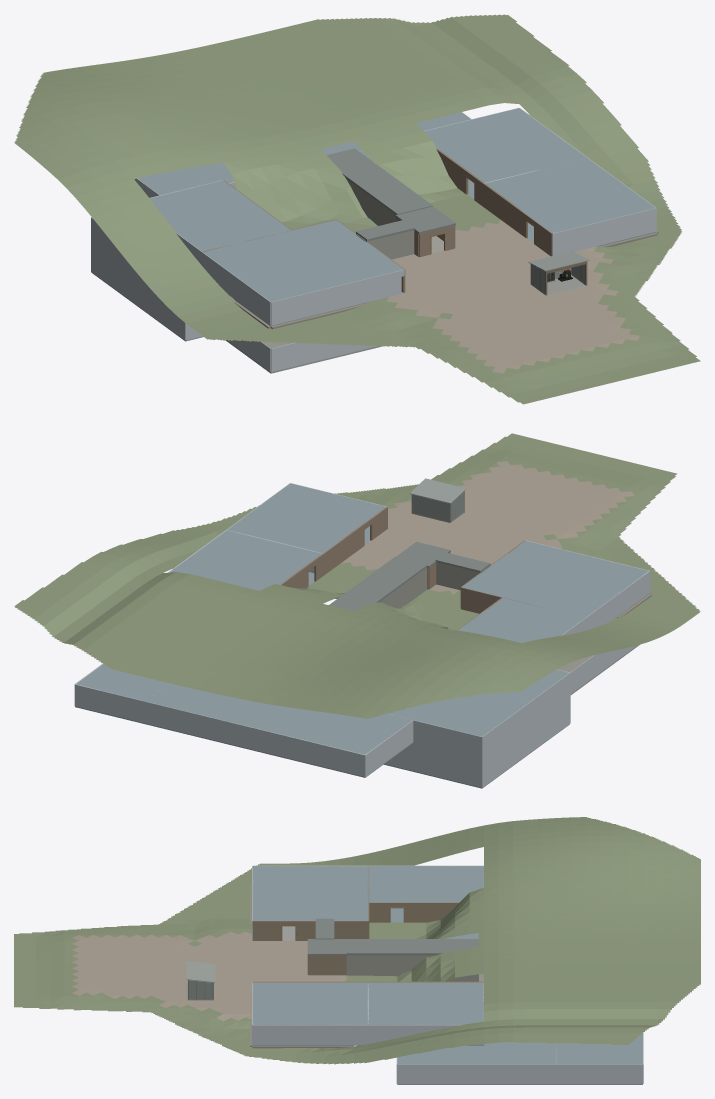
The model's file is mine-service-yard.glb.
The picture shows the model from 3 angles, top to bottom: view 1: azimuth 30°, elevation 25°; view 2: azimuth 150°, elevation 25°; view 3: azimuth 270°, elevation 25°; orthographic projection. The views are drawn at different scales.
Visible parts, largest first — view 1: WLD-05 saved ground, Ceiling cap shack, Ceiling cap assay, Ceiling cap wash, Ceiling cap stores, Flat route shell Wall shack S, Mine haul stair weather roof region0, Wall lower W, Wall assay S, Ceiling cap cross, Wall vent S, Wall shack W (+8 smaller); view 2: WLD-05 saved ground, Ceiling cap shack, Ceiling cap cross, Ceiling cap assay, Ceiling cap wash, Wall cross N, Ceiling cap ore-west, Ceiling cap stores, Wall lower W, Wall lower N, Mine haul stair weather roof region0, Wall ore-west W (+14 smaller); view 3: WLD-05 saved ground, Ceiling cap shack, Ceiling cap assay, Ceiling cap wash, Ceiling cap stores, Wall ore-east E, Ceiling cap ore-east, Wall assay E, Mine haul stair weather roof region0, Ceiling cap lift, Wall lift E, Mine haul east retaining wall region0 (+10 smaller).
Part boxes in pixels (left/top/right/bottom): WLD-05 saved ground: left=14, top=14, right=700, bottom=404; Ceiling cap shack: left=203, top=220, right=403, bottom=301; Ceiling cap assay: left=485, top=158, right=655, bottom=233; Ceiling cap wash: left=424, top=108, right=586, bottom=182; Ceiling cap stores: left=150, top=180, right=290, bottom=251; Flat route shell Wall shack S: left=271, top=269, right=404, bottom=325; Mine haul stair weather roof region0: left=327, top=148, right=432, bottom=214; Wall lower W: left=91, top=241, right=185, bottom=340; Wall assay S: left=552, top=208, right=656, bottom=255; Ceiling cap cross: left=137, top=142, right=362, bottom=195; Wall vent S: left=271, top=342, right=376, bottom=371; Wall shack W: left=202, top=252, right=270, bottom=325; WLD-05 saved ground: left=14, top=433, right=700, bottom=718; Ceiling cap shack: left=462, top=540, right=648, bottom=617; Ceiling cap cross: left=144, top=683, right=412, bottom=754; Ceiling cap assay: left=227, top=483, right=386, bottom=553; Ceiling cap wash: left=169, top=530, right=322, bottom=590; Wall cross N: left=144, top=701, right=365, bottom=776; Ceiling cap ore-west: left=388, top=669, right=569, bottom=736; Ceiling cap stores: left=458, top=597, right=585, bottom=643; Wall lower W: left=482, top=694, right=570, bottom=787; Wall lower N: left=385, top=742, right=482, bottom=787; Mine haul stair weather roof region0: left=329, top=557, right=427, bottom=610; Wall ore-west W: left=482, top=673, right=570, bottom=758; WLD-05 saved ground: left=14, top=817, right=700, bottom=1064; Ceiling cap shack: left=252, top=866, right=368, bottom=920; Ceiling cap assay: left=252, top=982, right=368, bottom=1024; Ceiling cap wash: left=368, top=982, right=483, bottom=1024; Ceiling cap stores: left=368, top=866, right=483, bottom=902; Wall ore-east E: left=397, top=1064, right=556, bottom=1084; Ceiling cap ore-east: left=397, top=1042, right=556, bottom=1064; Wall assay E: left=252, top=1024, right=368, bottom=1044; Mine haul stair weather roof region0: left=346, top=939, right=478, bottom=955; Ceiling cap lift: left=556, top=1033, right=642, bottom=1064; Wall lift E: left=556, top=1064, right=642, bottom=1084; Mine haul east retaining wall region0: left=346, top=955, right=466, bottom=981.
Bounding box in the file's own units: 70 × 17.77 × 95.
Materials: 65 (36 with a texture image).
